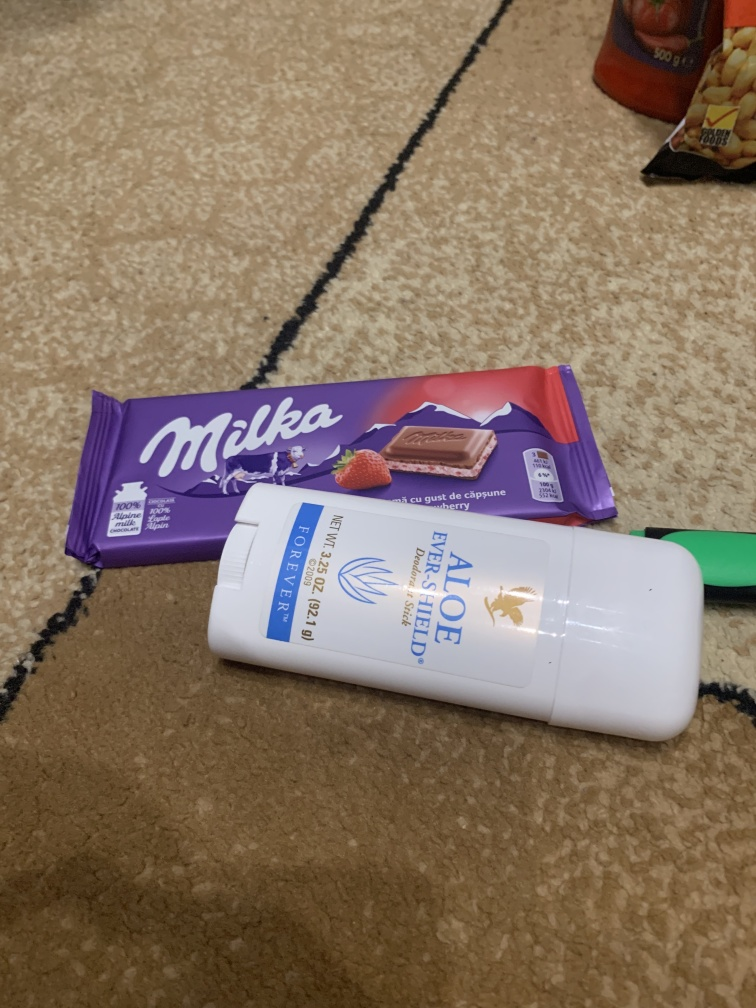milka: (72, 361, 621, 553)
